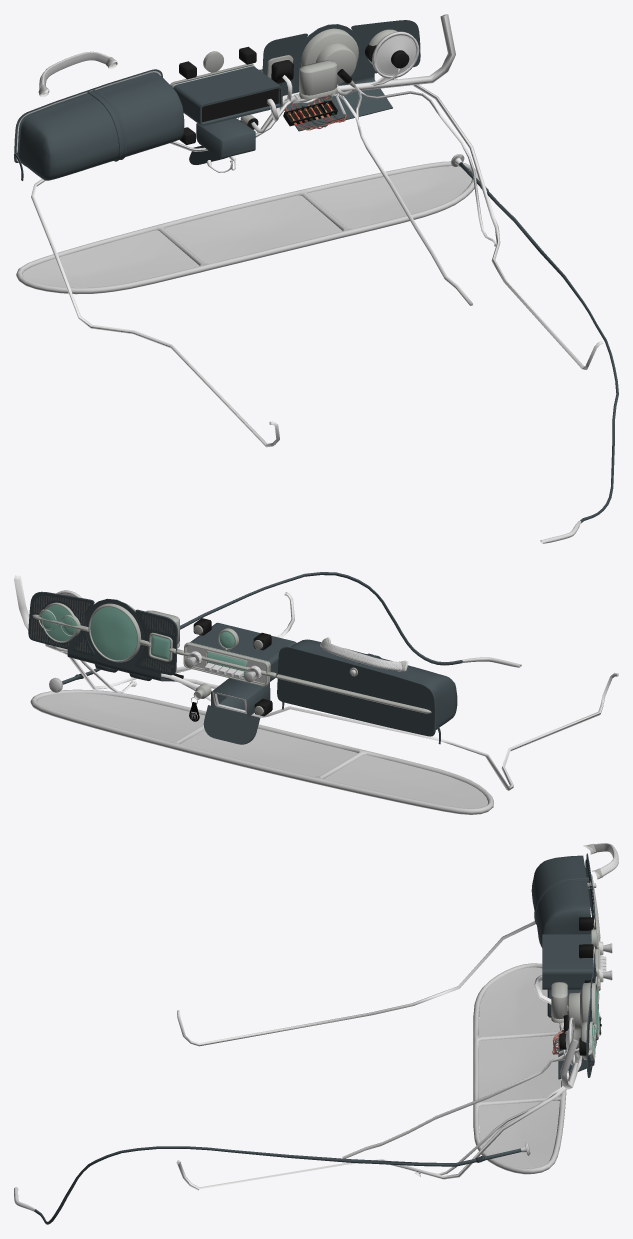
Rendered from Bug.Dashboard.dae.
3 views of the same model, one above another, from view 1: azimuth 30°, elevation 25°; view 2: azimuth 150°, elevation 25°; view 3: azimuth 270°, elevation 25° (orthographic). The views are drawn at different scales.
Visible parts, largest first — view 1: bug_dashboard_shelf, bug_dashboard_glovebox_case, bug_dashboard_cables, bug_radio_frame, bug_dashboard_barebone, bug_dashboard_gauge_speedo, bug_dashboard_ashtray_box, bug_radio_speaker, bug_controls_hood_release, bug_dashboard_barebone_cables, bug_dashboard_frame_left_oil_ammeter, bug_dashboard_glovebox_hatch (+2 smaller); view 2: bug_dashboard_shelf, bug_dashboard_glovebox_hatch, bug_dashboard_cables, bug_radio_frame, bug_dashboard_glovebox_case, bug_dashboard_gauge_speedo_glass, bug_dashboard_barebone, bug_dashboard_frame_left_oil_ammeter, bug_controls_hood_release, bug_dashboard_frame_center_oil_ammeter, bug_dashboard_frame_right_fuelgauge, bug_dashboard_ashtray_box (+7 smaller); view 3: bug_dashboard_shelf, bug_dashboard_cables, bug_dashboard_glovebox_case, bug_radio_frame, bug_controls_hood_release, bug_dashboard_gauge_speedo, bug_dashboard_barebone_cables, bug_dashboard_handle.
Part boxes in pixels (left/top/right/bottom): bug_dashboard_shelf: left=16, top=161, right=478, bottom=294; bug_dashboard_glovebox_case: left=19, top=73, right=184, bottom=180; bug_dashboard_cables: left=31, top=14, right=603, bottom=447; bug_radio_frame: left=170, top=63, right=299, bottom=125; bug_dashboard_barebone: left=280, top=24, right=392, bottom=131; bug_dashboard_gauge_speedo: left=300, top=28, right=358, bottom=84; bug_dashboard_ashtray_box: left=196, top=118, right=255, bottom=158; bug_radio_speaker: left=370, top=31, right=419, bottom=85; bug_controls_hood_release: left=459, top=162, right=618, bottom=543; bug_dashboard_barebone_cables: left=294, top=70, right=472, bottom=305; bug_dashboard_frame_left_oil_ammeter: left=351, top=20, right=420, bottom=75; bug_dashboard_glovebox_hatch: left=14, top=69, right=162, bottom=180; bug_dashboard_shelf: left=30, top=689, right=493, bottom=814; bug_dashboard_glovebox_hatch: left=276, top=646, right=440, bottom=744; bug_dashboard_cables: left=14, top=575, right=618, bottom=790; bug_radio_frame: left=161, top=622, right=296, bottom=686; bug_dashboard_glovebox_case: left=291, top=639, right=457, bottom=729; bug_dashboard_gauge_speedo_glass: left=90, top=607, right=137, bottom=660; bug_dashboard_barebone: left=67, top=598, right=175, bottom=681; bug_dashboard_frame_left_oil_ammeter: left=28, top=591, right=94, bottom=655; bug_controls_hood_release: left=62, top=572, right=521, bottom=684; bug_dashboard_frame_center_oil_ammeter: left=203, top=705, right=260, bottom=744; bug_dashboard_frame_right_fuelgauge: left=135, top=609, right=177, bottom=675; bug_dashboard_ashtray_box: left=211, top=678, right=270, bottom=716; bug_dashboard_shelf: left=473, top=963, right=566, bottom=1174; bug_dashboard_cables: left=176, top=921, right=582, bottom=1190; bug_dashboard_glovebox_case: left=531, top=855, right=591, bottom=947; bug_radio_frame: left=534, top=933, right=600, bottom=1010; bug_controls_hood_release: left=14, top=1146, right=521, bottom=1224; bug_dashboard_gauge_speedo: left=568, top=982, right=599, bottom=1038; bug_dashboard_barebone_cables: left=342, top=1015, right=568, bottom=1158; bug_dashboard_handle: left=583, top=843, right=618, bottom=879.
Size of the model in its own units: 1.05 by 1.29 by 0.6407.
